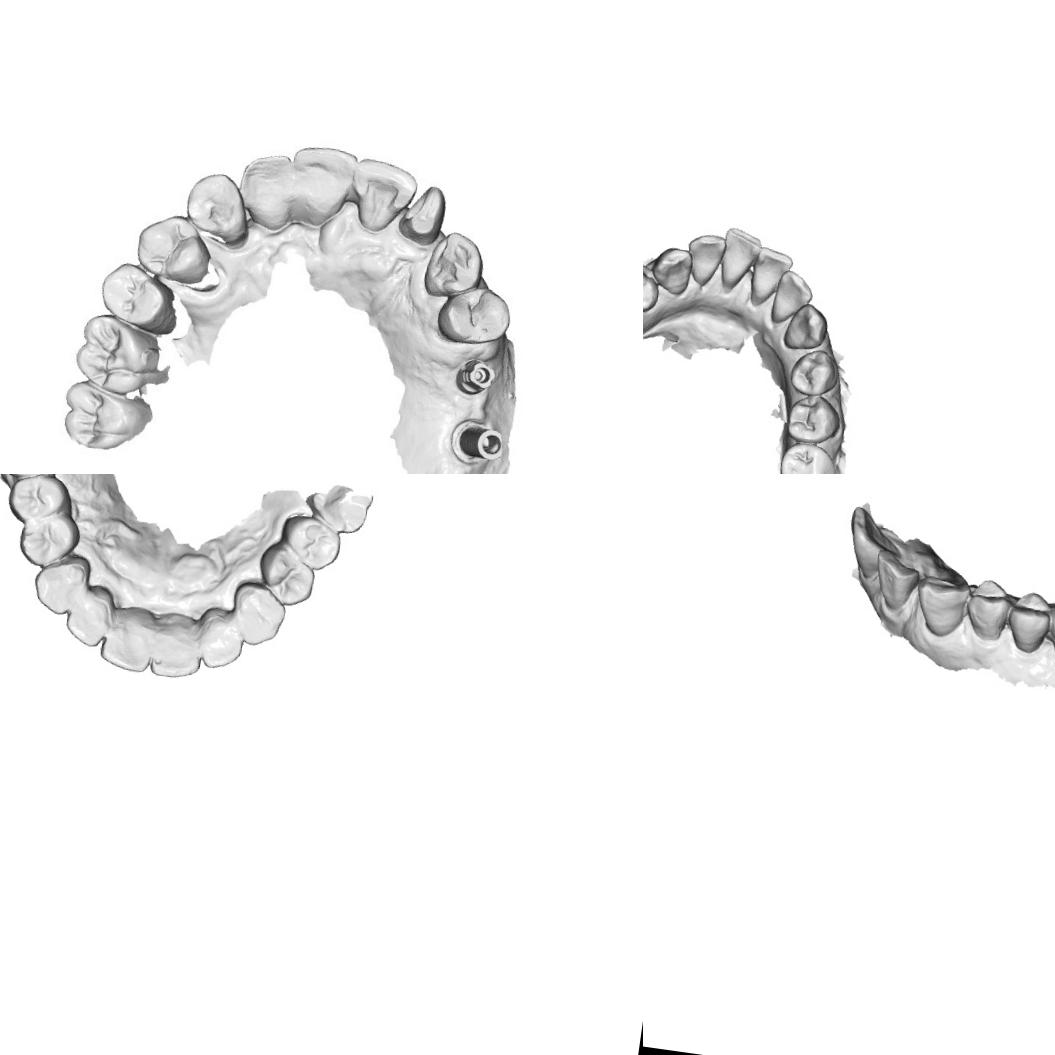canine: (179, 169, 254, 252), (416, 224, 487, 304), (225, 579, 290, 651), (910, 571, 974, 642), (29, 555, 88, 619), (780, 299, 832, 354), (647, 242, 696, 300)
crown: (393, 179, 461, 252)
implant: (450, 414, 510, 468), (448, 354, 501, 398)
incisor: (288, 141, 364, 234), (235, 148, 305, 242), (352, 157, 420, 233), (96, 601, 158, 675), (146, 610, 208, 683), (840, 504, 896, 584), (867, 546, 924, 613), (194, 606, 248, 674), (60, 589, 113, 651), (716, 225, 764, 291), (768, 265, 817, 327), (747, 244, 796, 306), (682, 230, 727, 290)
molar: (70, 312, 161, 398), (58, 380, 158, 456), (304, 481, 375, 534), (770, 438, 842, 474)
premolar: (94, 257, 187, 340), (132, 205, 222, 289), (252, 538, 321, 612), (440, 283, 513, 346), (276, 512, 346, 576), (15, 510, 84, 574), (960, 574, 1018, 647), (1002, 585, 1055, 658), (3, 474, 73, 529), (781, 388, 844, 448), (786, 344, 846, 399), (643, 260, 663, 316)
